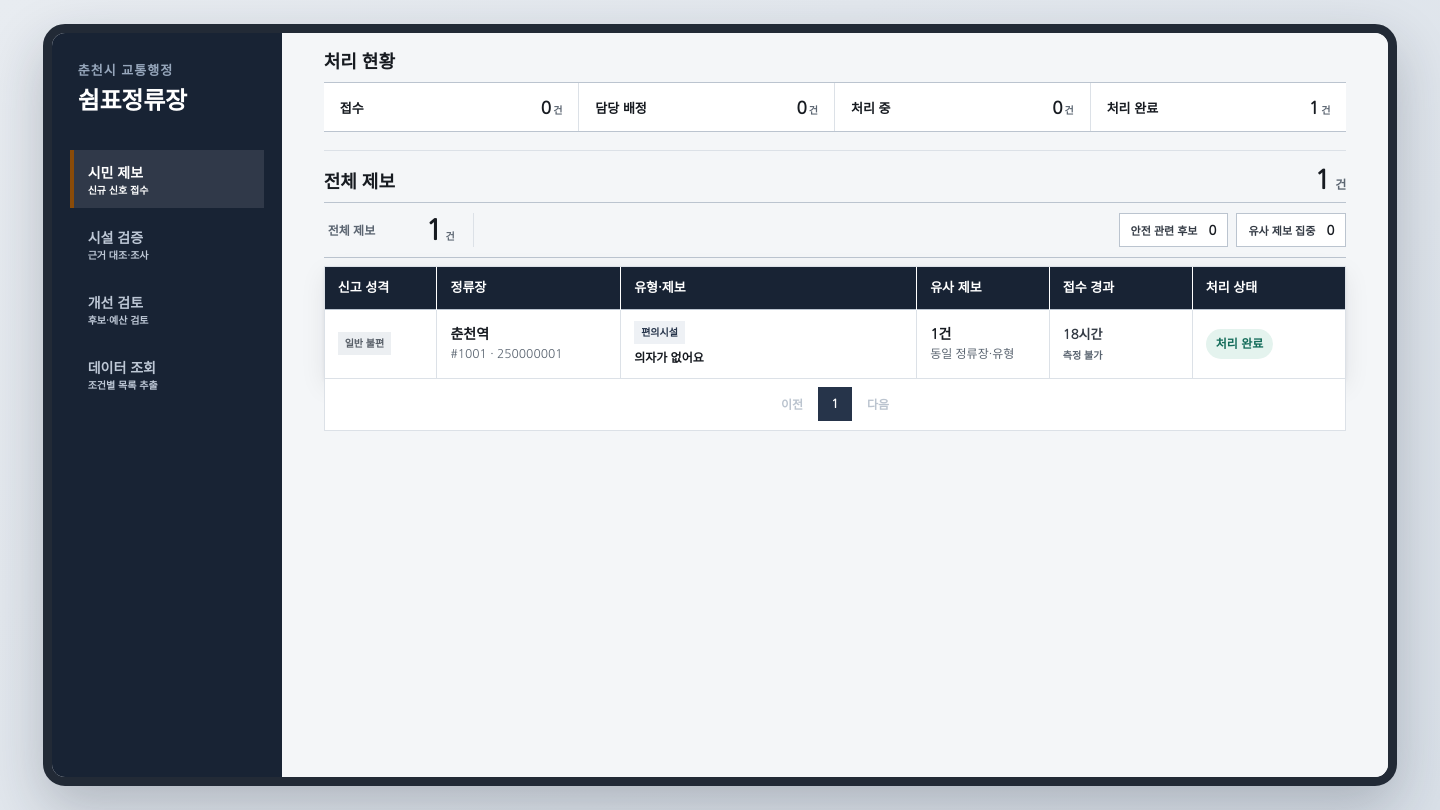
Test: <Dashboard> — (a) 탭 구조 › 처리 완료 건은 검토가 아니라 처리 기록을 연다
This screenshot has width=1440, height=810.
Click the button "처리 완료 1 건".
click(1219, 107)  # box [1091,83,1346,131]
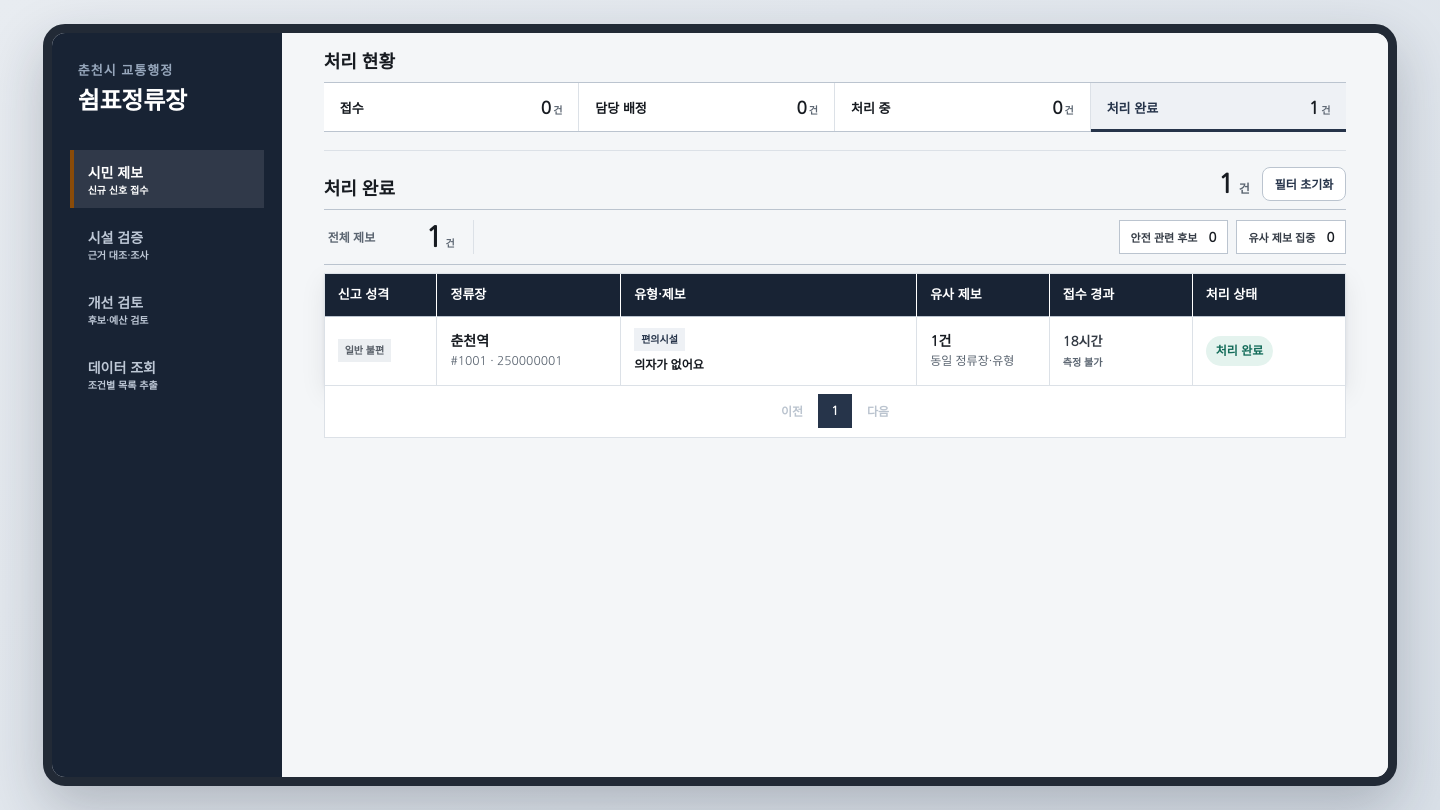
Click the row named "춘천역 의자가 없어요 상세 보기".
click(835, 351)  # box [325,316,1345,385]
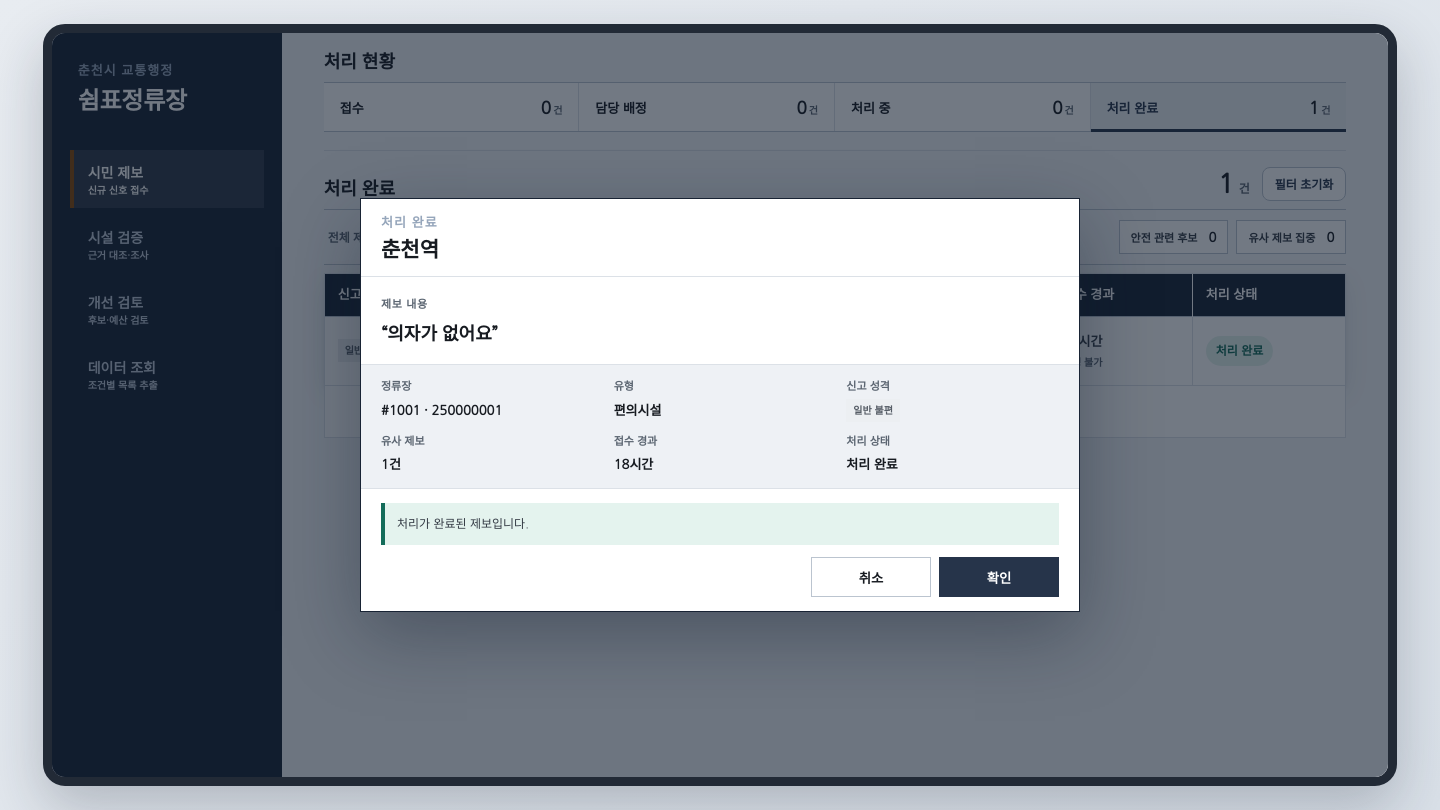
Check: the text "처리가 완료된 제보입니다." is shown, box [381,503,1059,545]
